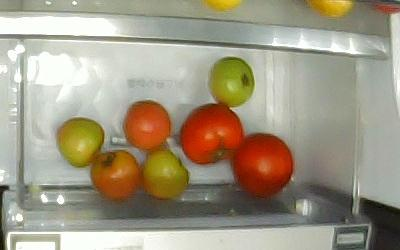tomato: (177, 102, 244, 165), (232, 133, 294, 200), (122, 99, 171, 151), (91, 150, 142, 199), (56, 117, 104, 169), (142, 150, 190, 199), (209, 57, 254, 106)
